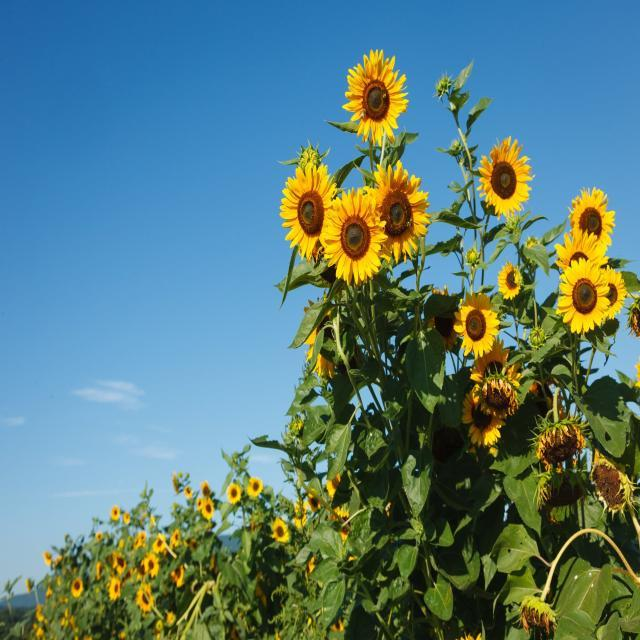sunflower: (364, 159, 431, 264), (319, 186, 387, 286), (342, 48, 408, 146), (278, 162, 338, 262), (477, 134, 534, 218), (555, 257, 610, 335), (453, 291, 500, 358), (566, 186, 616, 247), (304, 291, 338, 380), (461, 381, 504, 448), (590, 462, 632, 522), (470, 338, 521, 387), (536, 420, 586, 468), (554, 228, 608, 272), (534, 470, 586, 514), (426, 286, 458, 352), (312, 242, 348, 300), (528, 378, 570, 420), (530, 373, 570, 417), (600, 264, 626, 320), (481, 380, 518, 414), (520, 598, 554, 634), (497, 260, 523, 300), (329, 506, 352, 543), (136, 582, 154, 614), (271, 516, 289, 544), (141, 551, 159, 578), (292, 498, 308, 528), (306, 488, 321, 513), (246, 476, 263, 498), (112, 550, 126, 576), (326, 473, 340, 498), (108, 576, 122, 600), (170, 564, 184, 588), (200, 498, 214, 521), (227, 482, 241, 504), (152, 532, 166, 554), (70, 578, 84, 598), (170, 528, 180, 548), (110, 504, 120, 522), (200, 480, 210, 497), (172, 474, 180, 494), (42, 550, 52, 565), (134, 536, 142, 550), (96, 562, 102, 580), (184, 486, 192, 498), (190, 538, 198, 550), (26, 580, 32, 594), (138, 532, 146, 542), (196, 498, 202, 510), (124, 513, 130, 523), (96, 532, 102, 542), (156, 620, 162, 630)
